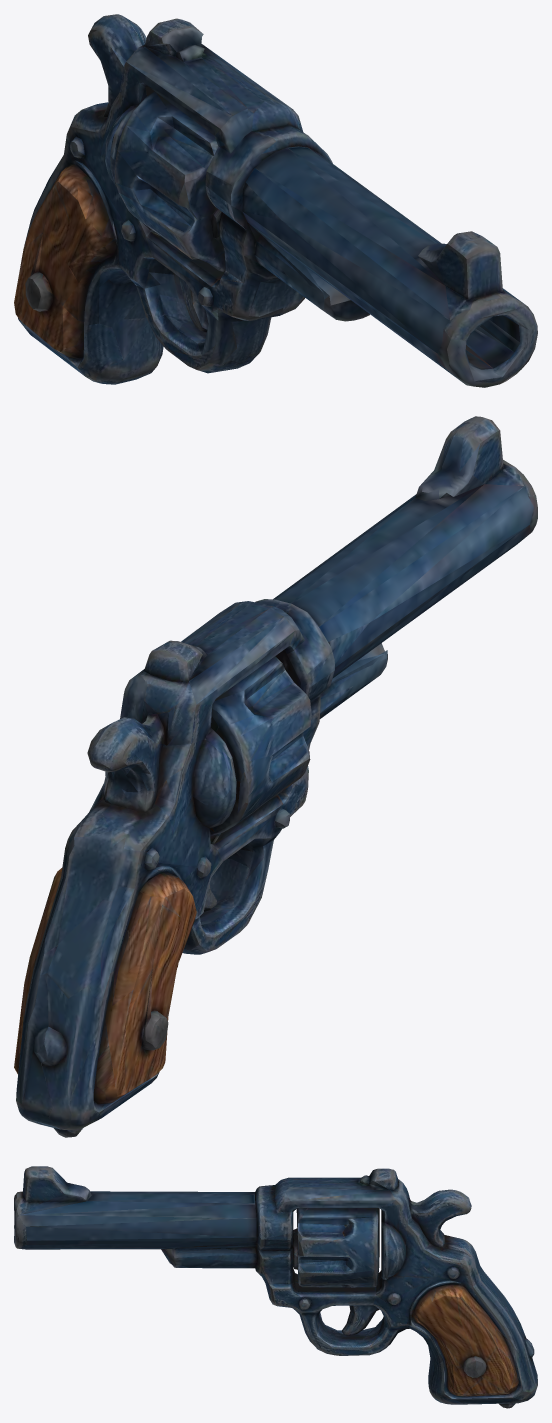
File: gun_hammer.glb
3 views of the same model, one above another, from view 1: azimuth 30°, elevation 25°; view 2: azimuth 150°, elevation 25°; view 3: azimuth 270°, elevation 25° (orthographic). The views are drawn at different scales.
Size of the model in its own units: 0.0653 by 0.1891 by 0.3746.
Materials: 1 (1 with a texture image).
